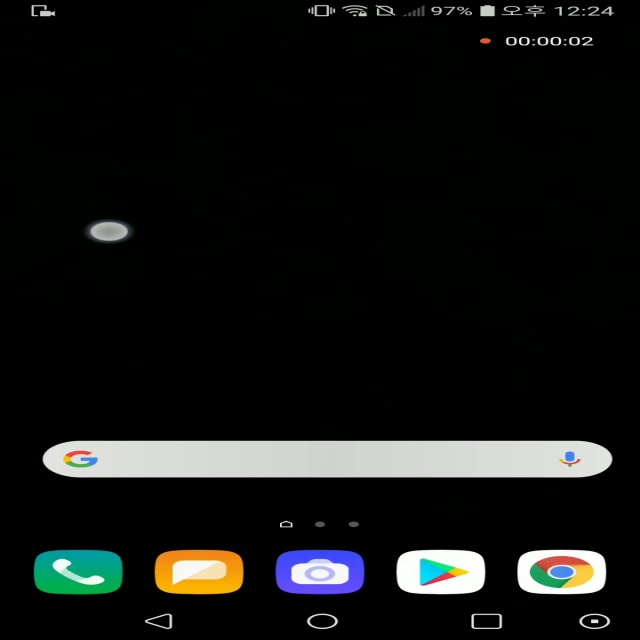Cursor: (89, 221, 134, 243)
